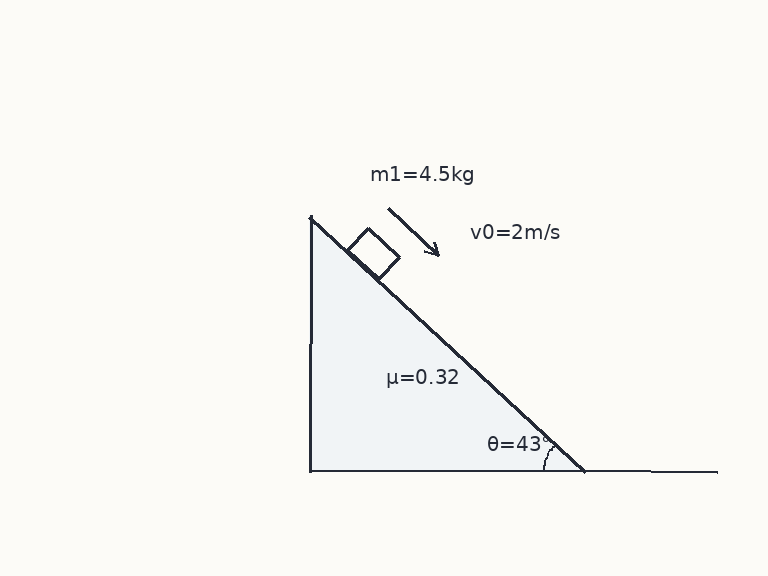block: (345, 226, 401, 281)
ramp: (308, 213, 586, 473)
